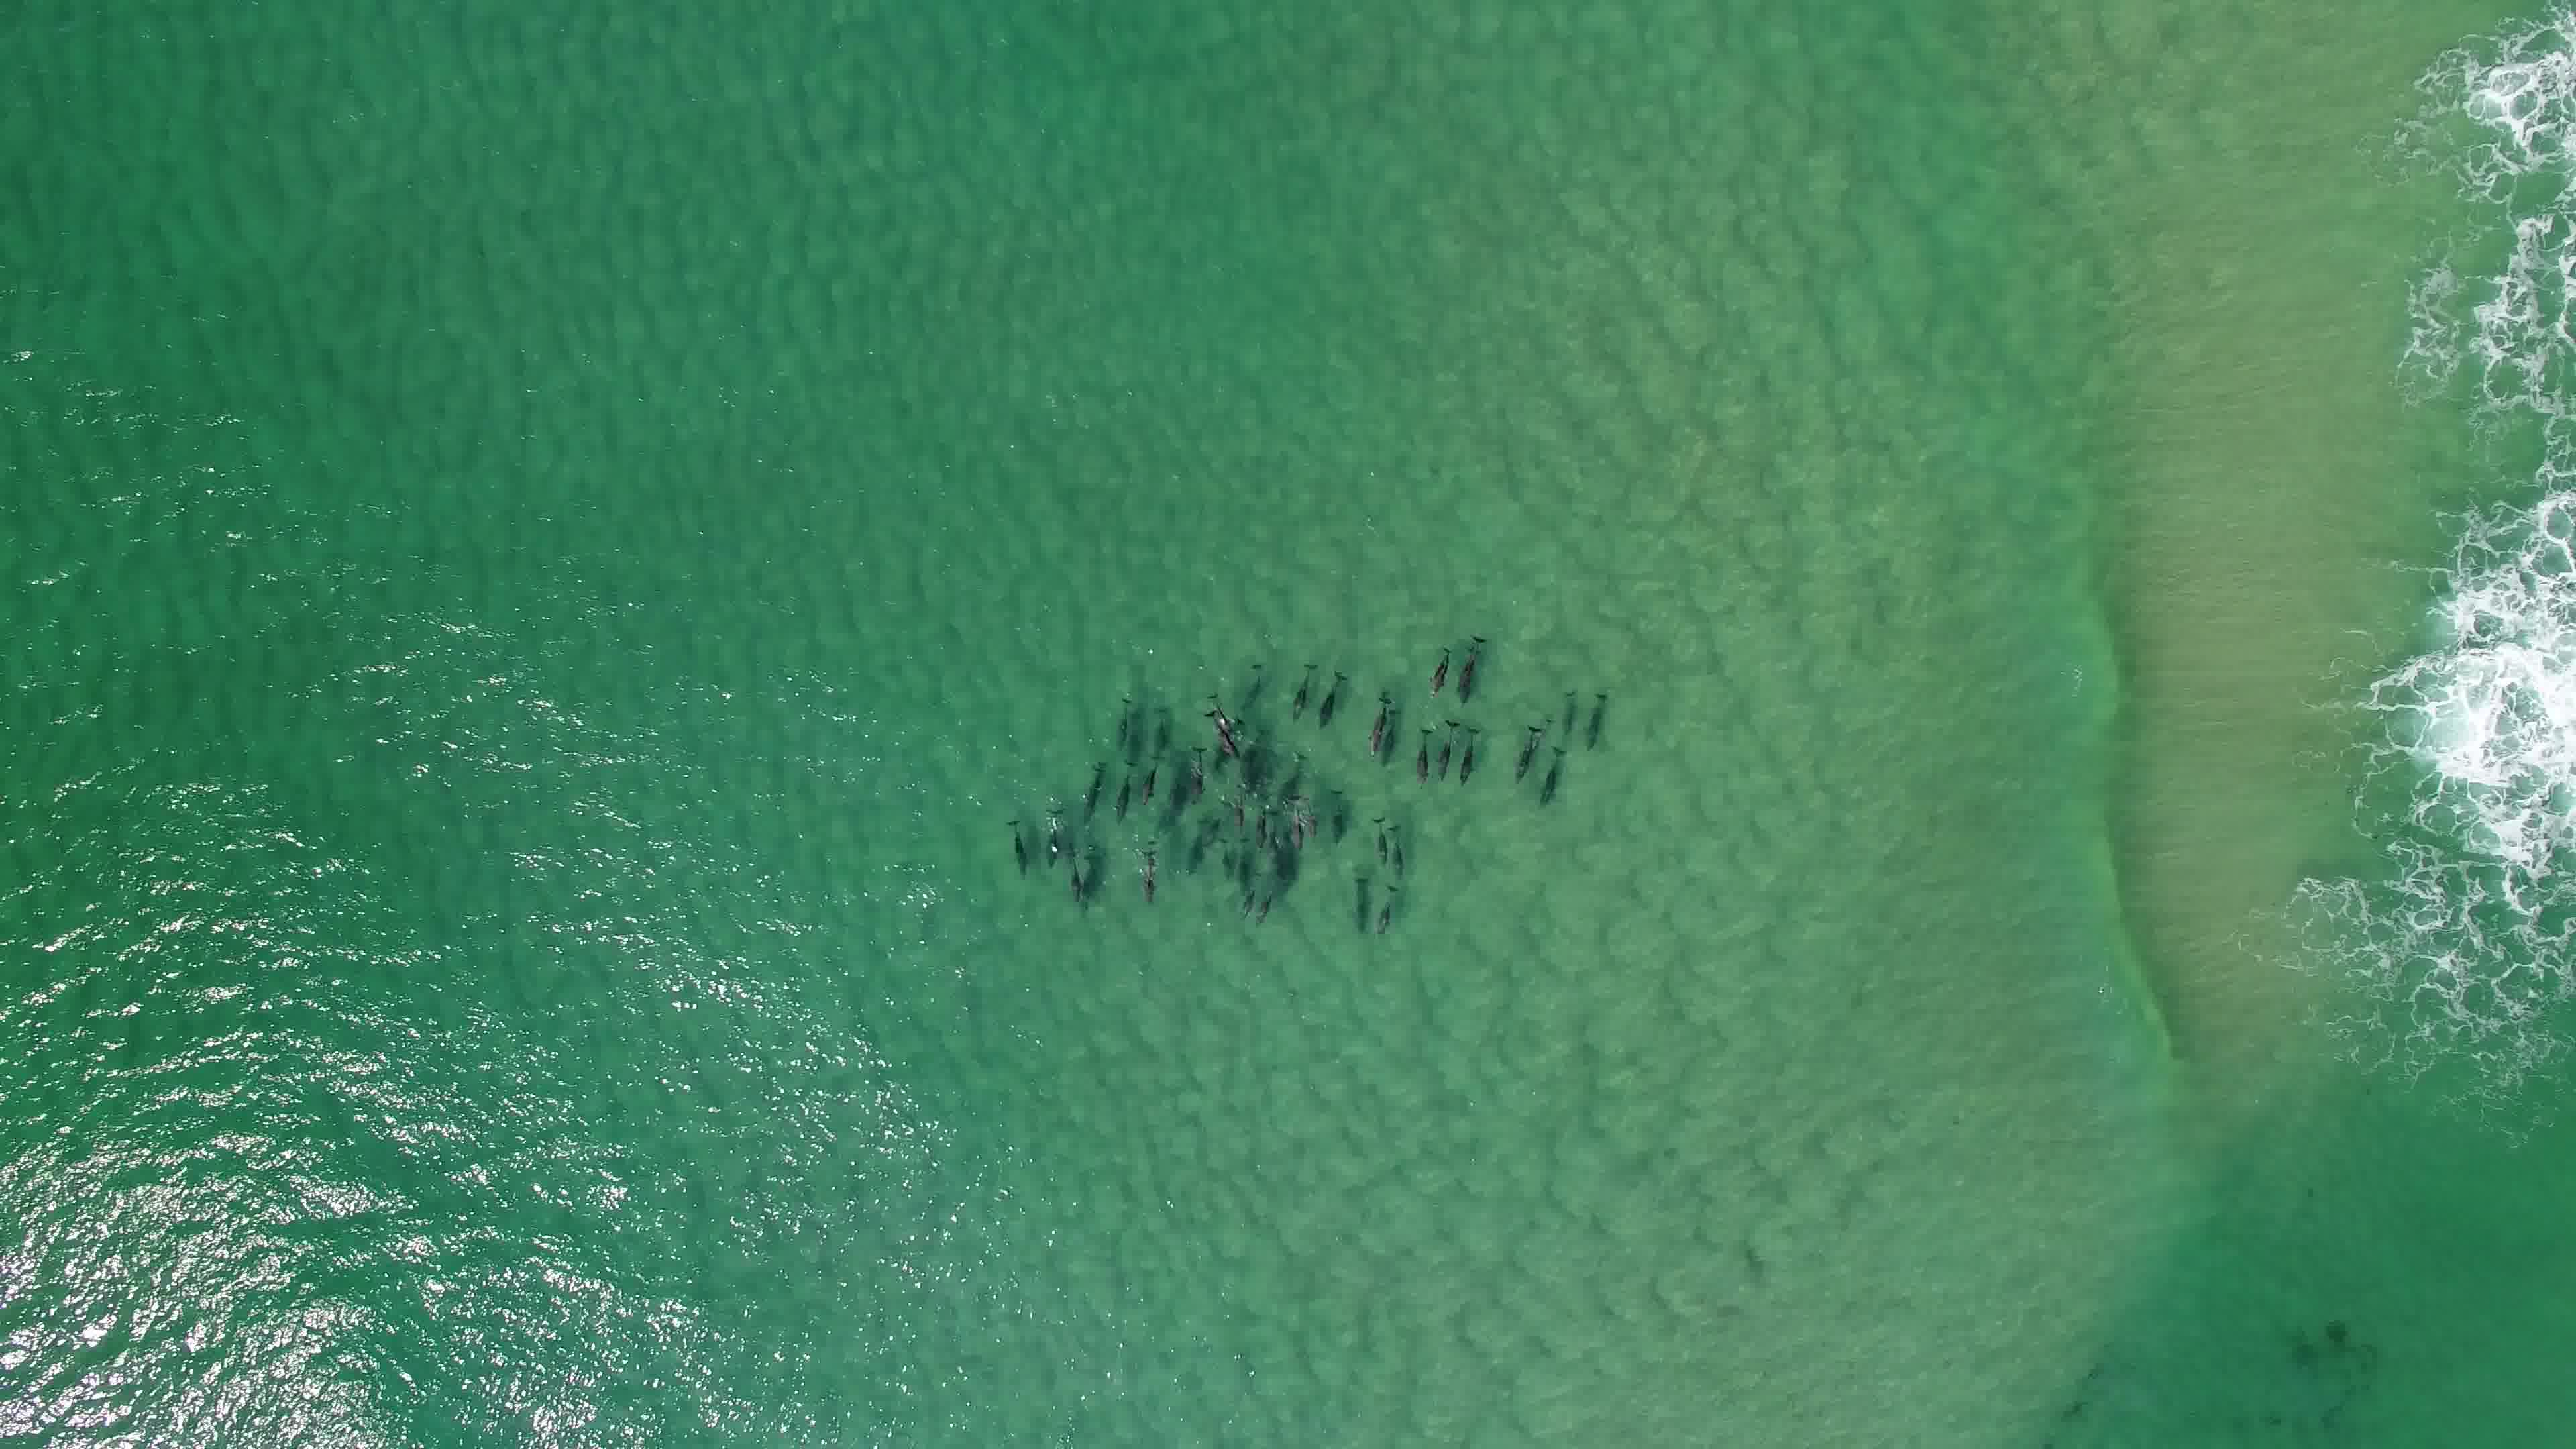dolphin: (1447, 628, 1491, 711), (1201, 690, 1246, 768), (1355, 686, 1399, 759), (994, 814, 1039, 885), (1410, 635, 1454, 702), (1504, 717, 1546, 782), (1028, 800, 1069, 867), (1060, 830, 1093, 911), (1178, 727, 1212, 807), (1129, 833, 1166, 904), (1072, 748, 1108, 819), (1405, 717, 1442, 784), (1284, 656, 1322, 724), (1108, 681, 1143, 750), (1318, 655, 1348, 732), (1369, 885, 1412, 939), (1132, 750, 1166, 812), (1109, 763, 1138, 828), (1454, 720, 1483, 784), (1384, 816, 1412, 878), (1359, 814, 1392, 865), (1433, 715, 1460, 775), (1224, 787, 1251, 840), (1297, 789, 1320, 844), (1283, 794, 1306, 847), (1247, 801, 1272, 849), (1230, 874, 1254, 915), (1251, 888, 1277, 924)
